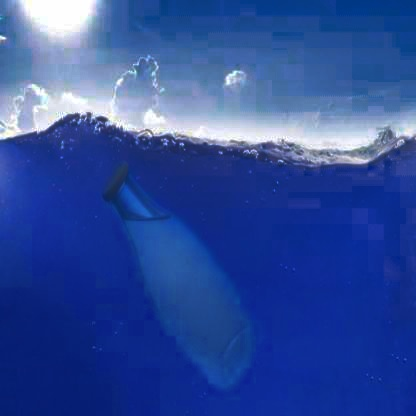gbottle: (103, 164, 254, 389)
